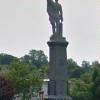Statue: (36, 2, 77, 93)
